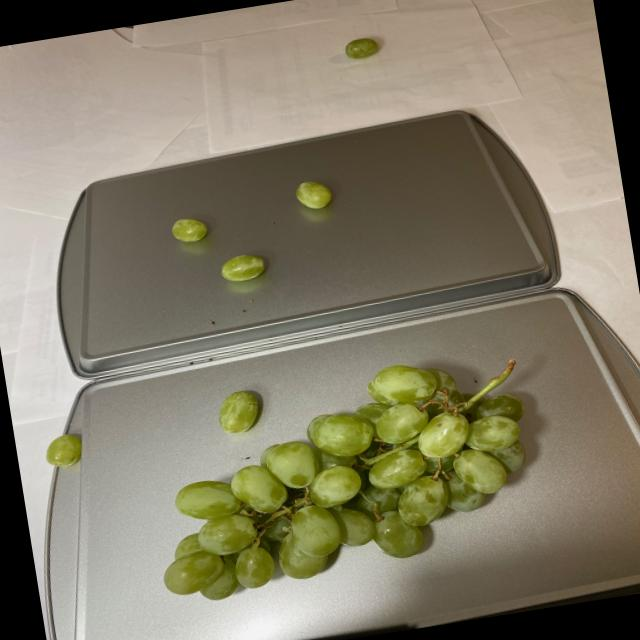grapes: (134, 344, 544, 608), (170, 175, 351, 298)
